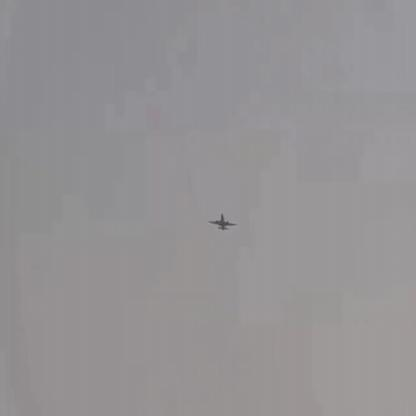CIV_Plane: (208, 212, 238, 230)
